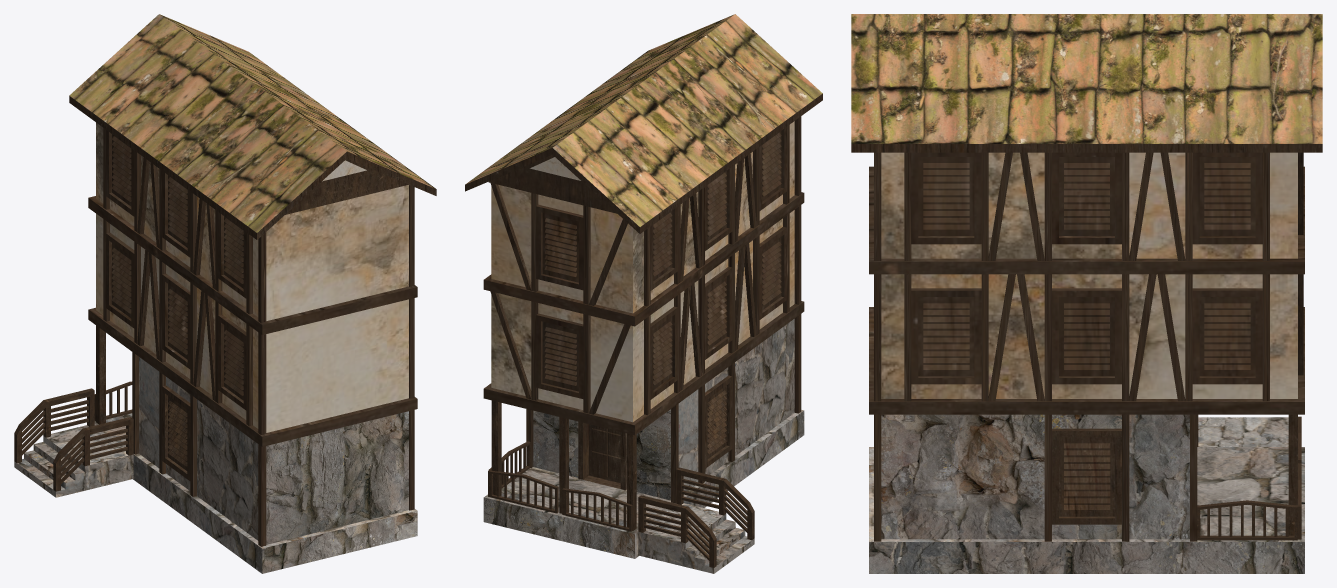
The picture shows the model from 3 angles, left to right: view 1: azimuth 30°, elevation 25°; view 2: azimuth 150°, elevation 25°; view 3: azimuth 270°, elevation 25°; orthographic projection. The views are drawn at different scales.
Parts seen in each view (by area): view 1: Floors, Roof, 1Floor, Base_wood, Stairs, Stair_bases; view 2: Floors, Roof, 1Floor, Base_wood, Stairs, Stair_bases; view 3: Floors, Roof, 1Floor, Base_wood, Stairs, Stair_bases.
Part boxes in pixels (x1,y1,x2,y2): Floors: [88, 122, 417, 446]; Roof: [69, 14, 436, 239]; 1Floor: [94, 325, 417, 573]; Base_wood: [103, 128, 414, 546]; Stairs: [14, 388, 133, 497]; Stair_bases: [94, 381, 132, 420]; Floors: [483, 121, 804, 435]; Roof: [465, 14, 822, 233]; 1Floor: [483, 319, 804, 558]; Base_wood: [490, 116, 801, 503]; Stairs: [638, 467, 754, 573]; Stair_bases: [488, 441, 632, 531]; Floors: [869, 152, 1304, 414]; Roof: [851, 14, 1322, 152]; 1Floor: [869, 414, 1304, 573]; Base_wood: [874, 152, 1303, 541]; Stairs: [1197, 414, 1288, 446]; Stair_bases: [1197, 416, 1301, 540].
Bounding box in the file's own units: 5.05 × 8.04 × 6.7.
Materials: 4 (4 with a texture image).
